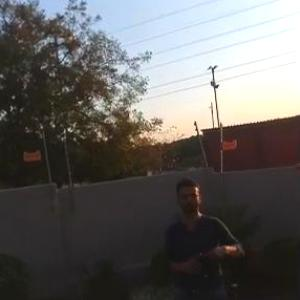follow: (155, 167, 253, 299)
